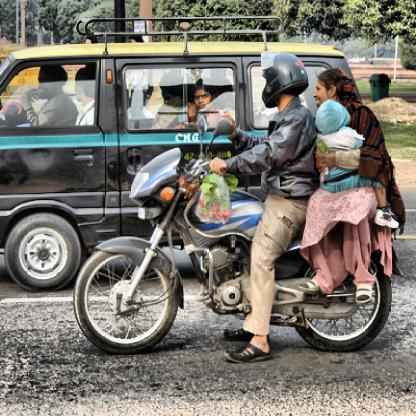not_wear: (310, 93, 346, 136), (312, 69, 350, 106)
wear: (258, 48, 302, 103)
